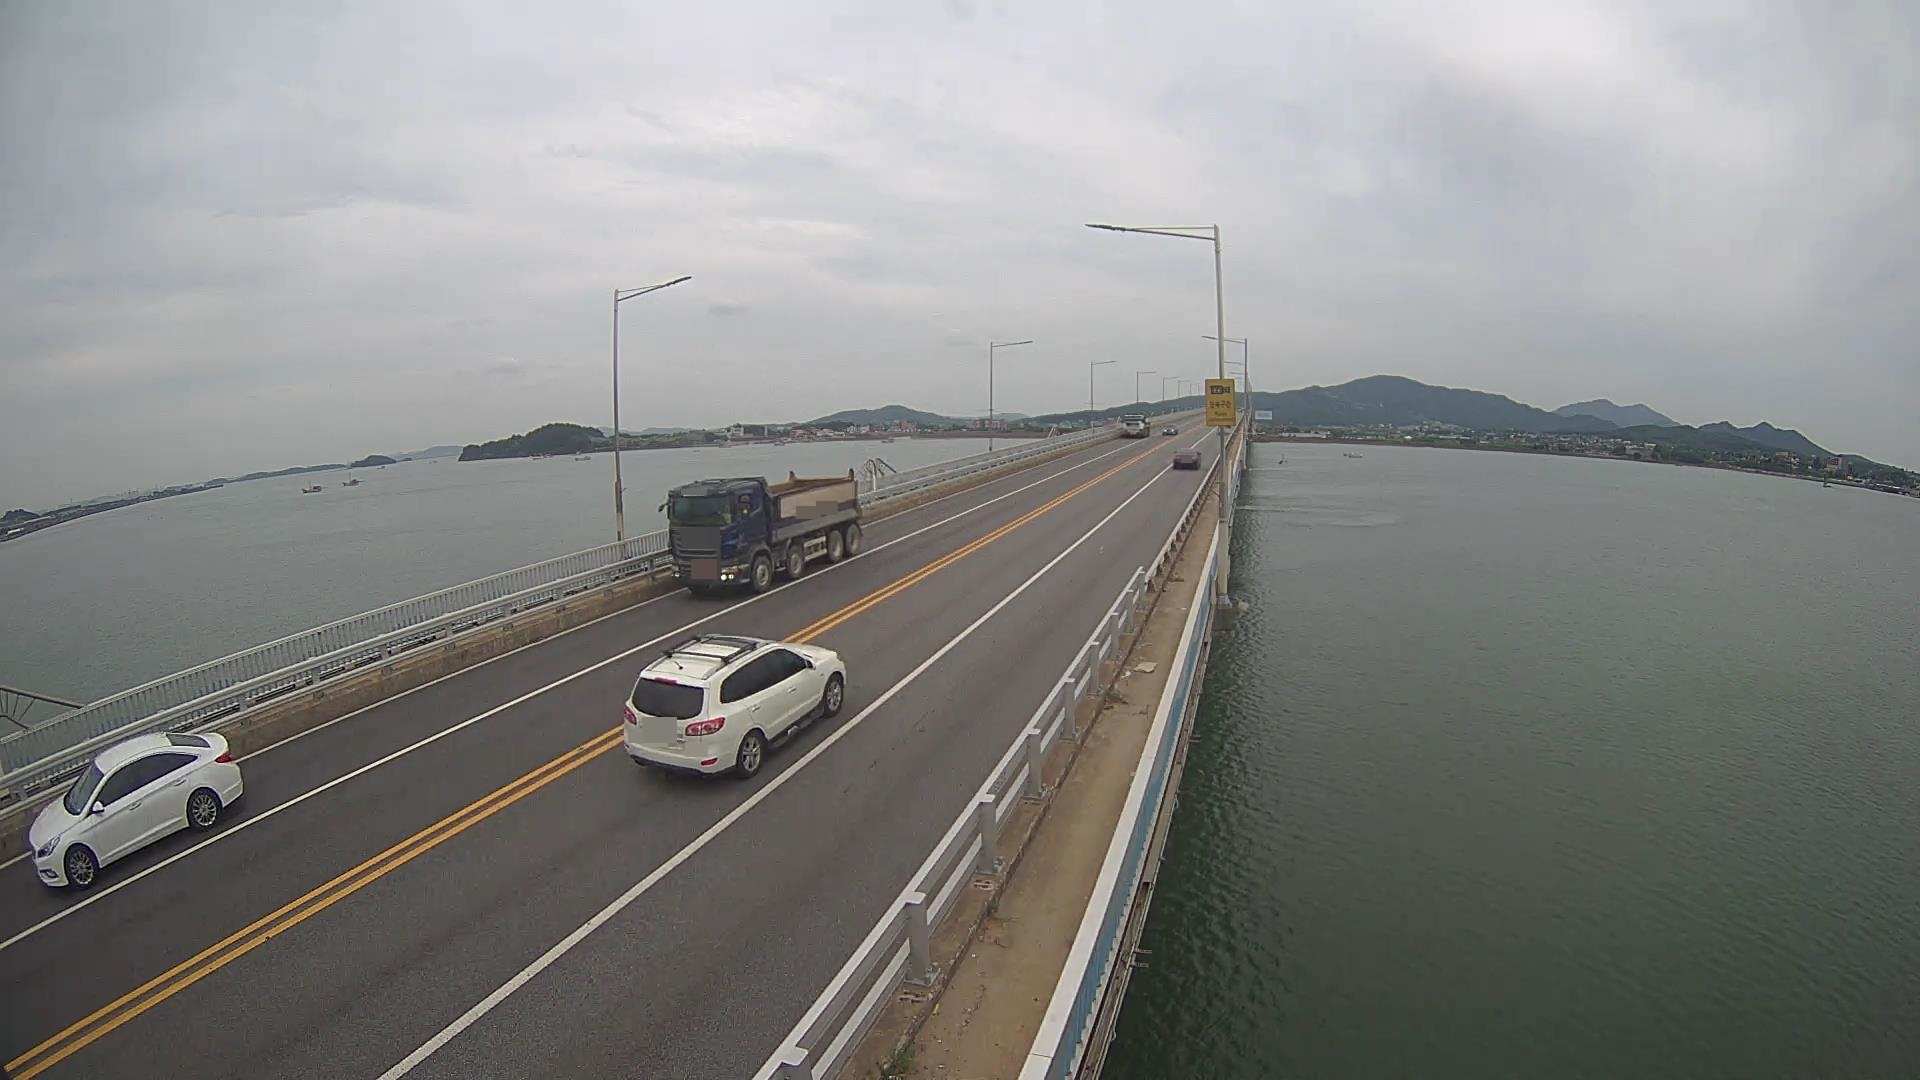정상차량: (659, 468, 864, 595)
